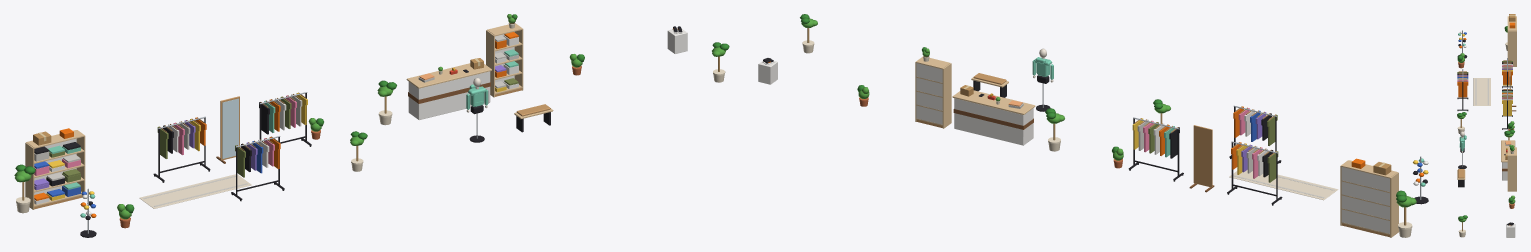
The model's file is einrichtung_laden.glb.
3 renders of one model, left to right at view 1: azimuth 30°, elevation 25°; view 2: azimuth 150°, elevation 25°; view 3: azimuth 270°, elevation 25°, orthographic. The views are drawn at different scales.
Visible parts, largest first — view 1: einrichtung_laden; view 2: einrichtung_laden; view 3: einrichtung_laden.
Part boxes in pixels (x1=…): einrichtung_laden: x1=14, y1=14, x2=729, y2=237; einrichtung_laden: x1=758, y1=14, x2=1428, y2=237; einrichtung_laden: x1=1457, y1=14, x2=1516, y2=237.
Size of the model in its own units: 20.62 by 2.2 by 2.73.
